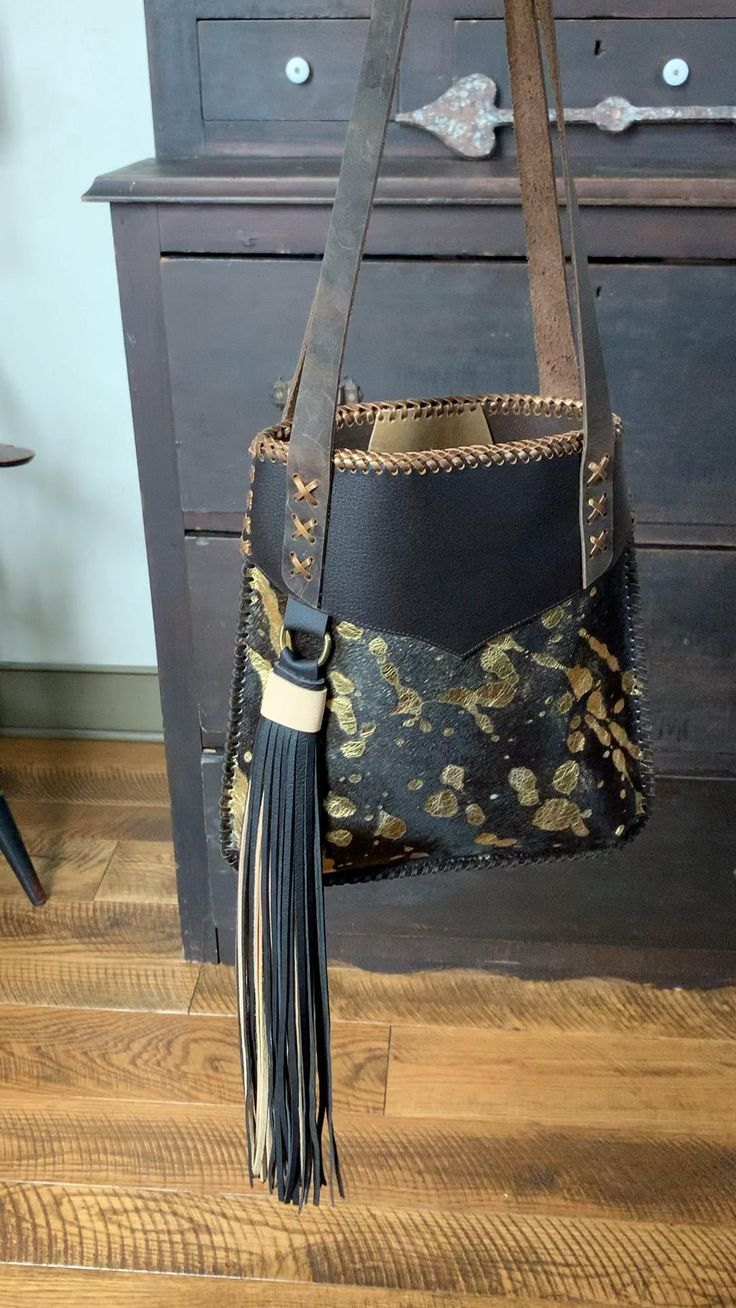cuero: (223, 5, 653, 885)
